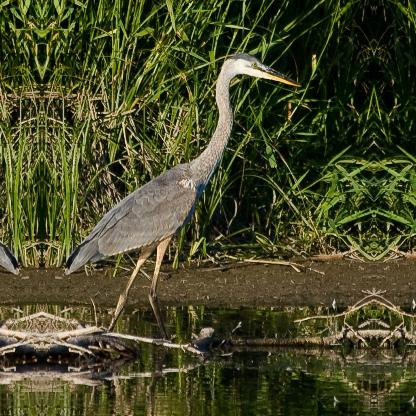Bird: (62, 60, 258, 354)
